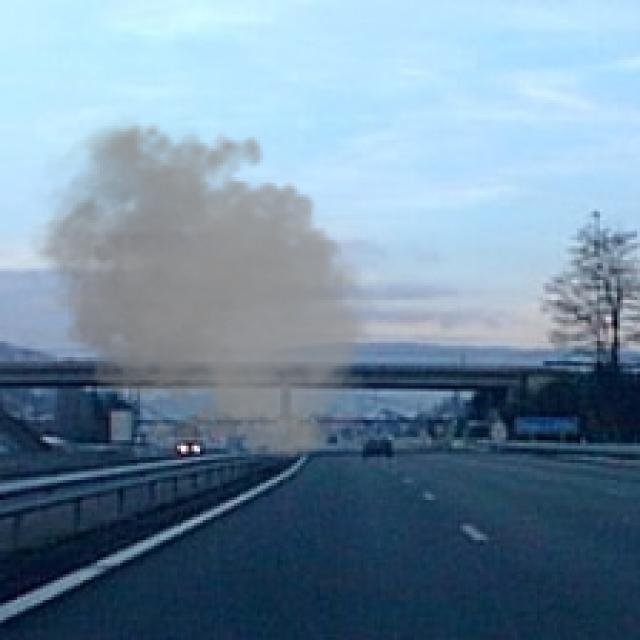Smoke: (17, 111, 383, 466)
